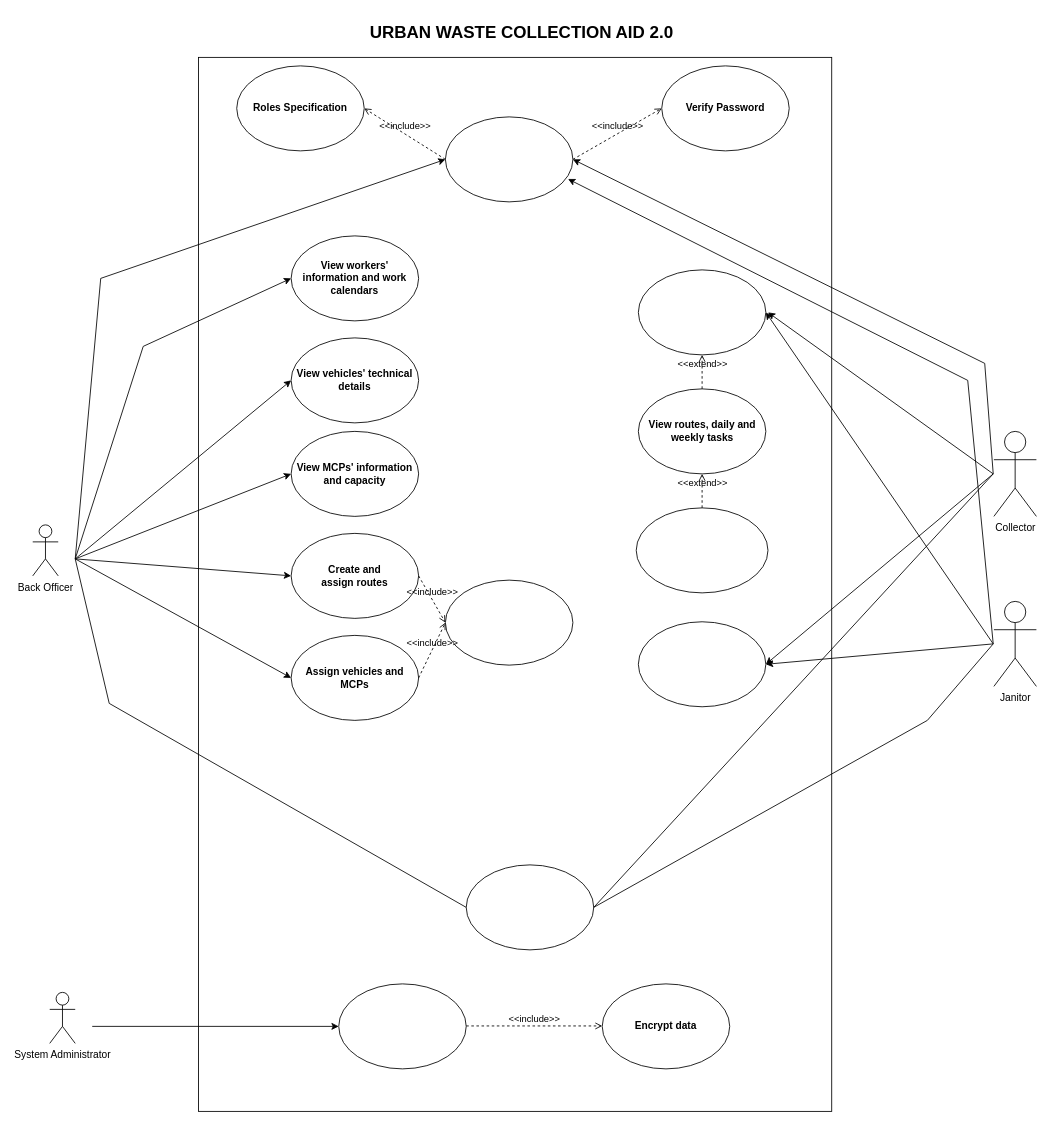
The diagram is 1051 pixels wide and 1126 high, and some of its shapes have lost their labels. Here are the shapes that lost their labels. From the top down, the box of each, then its label:
(445, 116, 573, 202): Login
(638, 269, 766, 355): View work calendar
(635, 507, 768, 593): Check in/ Check out tasks
(445, 579, 573, 665): Update work calendar
(638, 621, 766, 707): Be notified about fully loaded MCPs
(465, 864, 594, 950): Message
(338, 983, 466, 1069): Enter information of new users
